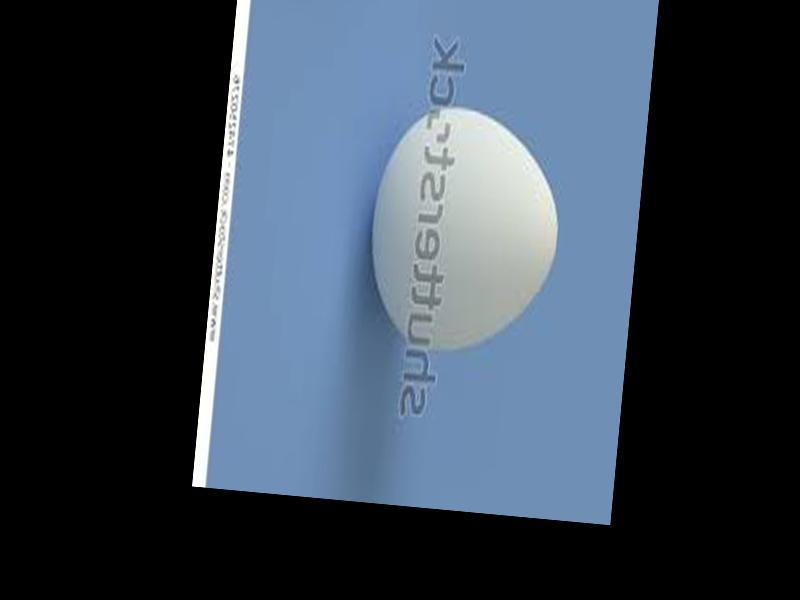Eggs: (360, 99, 567, 360)
